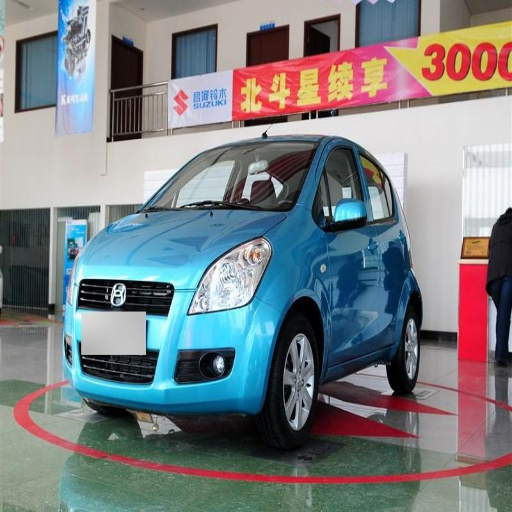front_bumper: (63, 278, 283, 416)
front_glass: (147, 142, 319, 211)
front_left_door: (320, 140, 377, 362)
